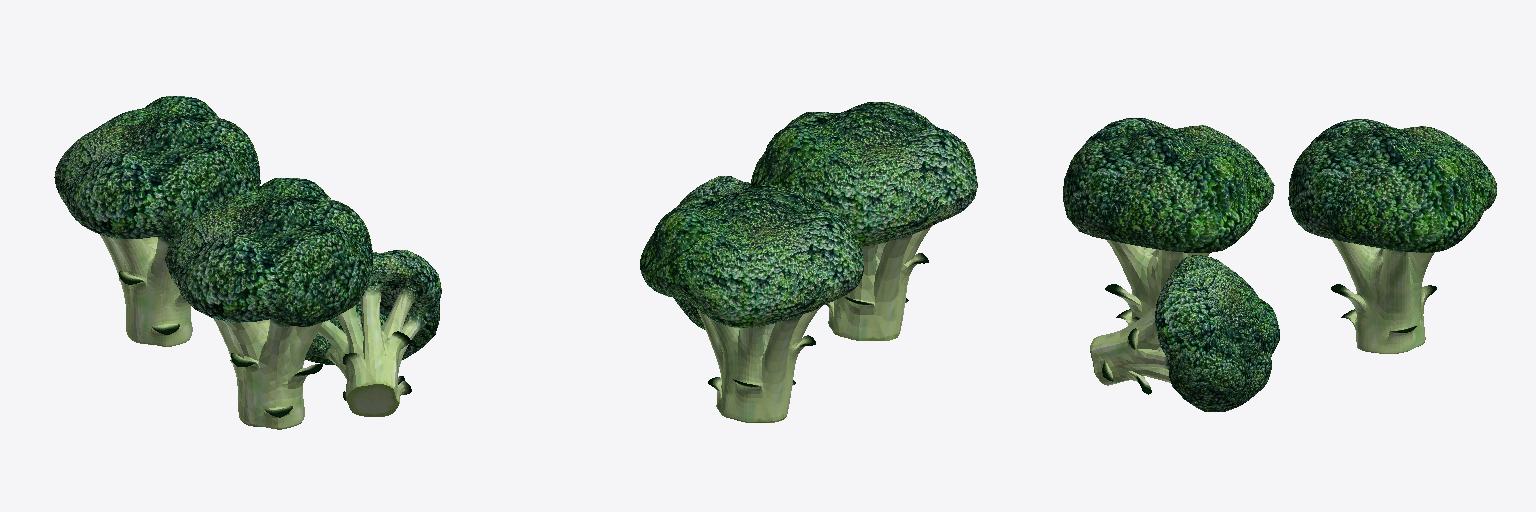
3 renders of one model, left to right at view 1: azimuth 30°, elevation 25°; view 2: azimuth 150°, elevation 25°; view 3: azimuth 270°, elevation 25°, orthographic.
Parts seen in each view (by area): view 1: Broccoli, Broccoli02, Broccoli01; view 2: Broccoli02, Broccoli, Broccoli01; view 3: Broccoli02, Broccoli, Broccoli01.
Part boxes in pixels (left/top/right/bottom): Broccoli: left=165, top=178, right=372, bottom=429; Broccoli02: left=54, top=96, right=260, bottom=346; Broccoli01: left=305, top=250, right=441, bottom=416; Broccoli02: left=640, top=185, right=863, bottom=422; Broccoli: left=751, top=102, right=977, bottom=340; Broccoli01: left=674, top=176, right=750, bottom=329; Broccoli02: left=1288, top=119, right=1496, bottom=353; Broccoli: left=1063, top=118, right=1274, bottom=323; Broccoli01: left=1090, top=255, right=1279, bottom=411.
Size of the model in its own units: 72.73 by 55.42 by 100.
1 materials, 1 textured.